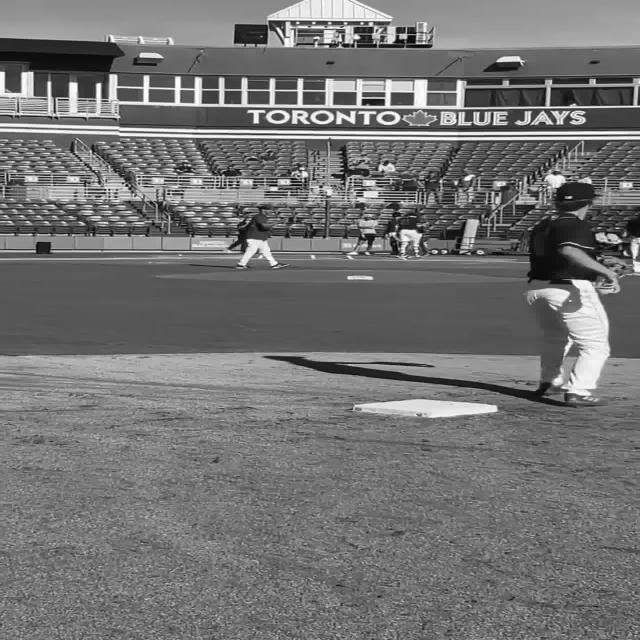base: (353, 401, 502, 417)
baseball: (596, 281, 622, 295)
baseball_glove: (592, 254, 626, 296)
shoe: (564, 392, 602, 406), (536, 382, 564, 395), (270, 263, 289, 269), (235, 264, 253, 269), (345, 251, 358, 255)
